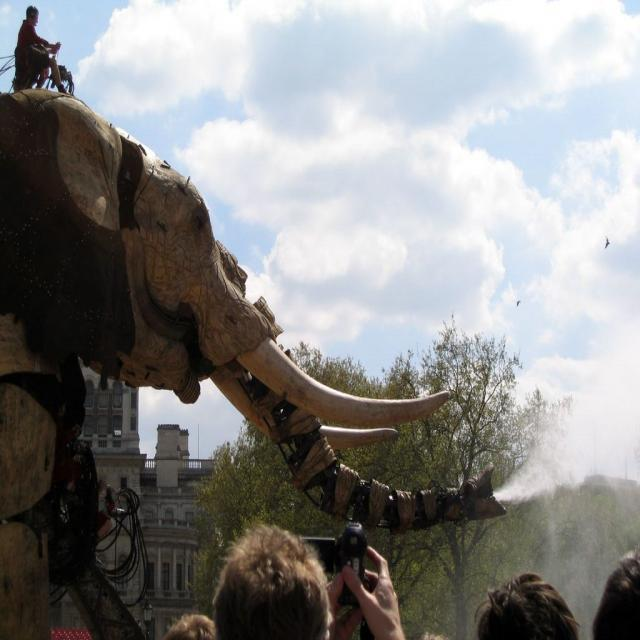elephant: (0, 84, 509, 639)
